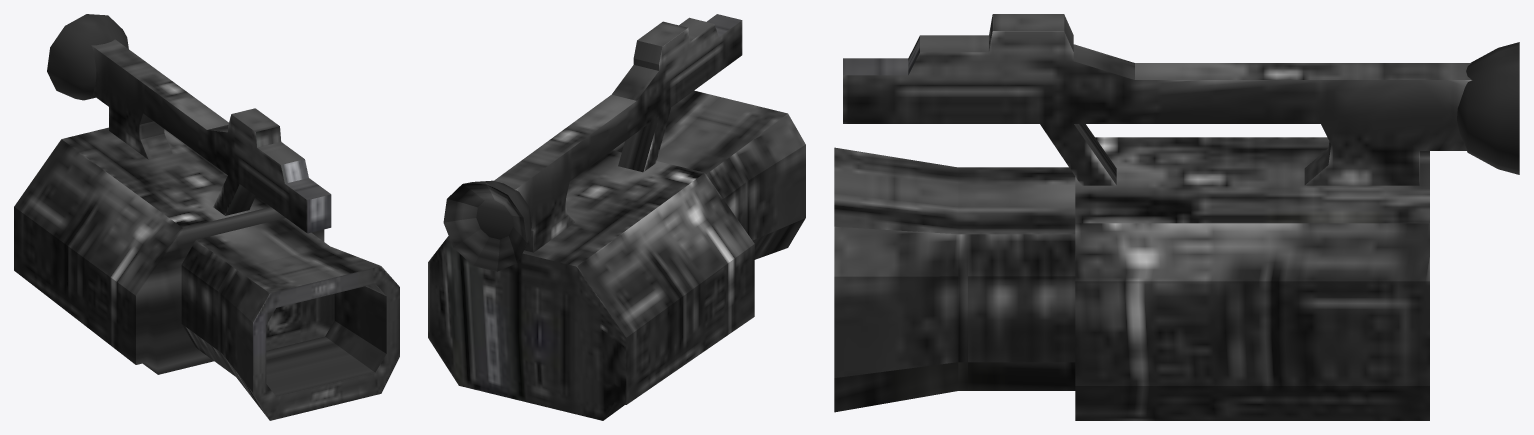
Rendered from shoulder_cam_1.FBX.
The picture shows the model from 3 angles, left to right: view 1: azimuth 30°, elevation 25°; view 2: azimuth 150°, elevation 25°; view 3: azimuth 270°, elevation 25°; orthographic projection. The views are drawn at different scales.
Parts seen in each view (by area): view 1: shoulder_cam_1; view 2: shoulder_cam_1; view 3: shoulder_cam_1.
Part boxes in pixels (x1,y1,x2,y2): shoulder_cam_1: [14, 14, 399, 420]; shoulder_cam_1: [428, 14, 805, 420]; shoulder_cam_1: [834, 14, 1519, 420].
Bounding box in the file's own units: 21.93 × 27.43 × 47.47.
